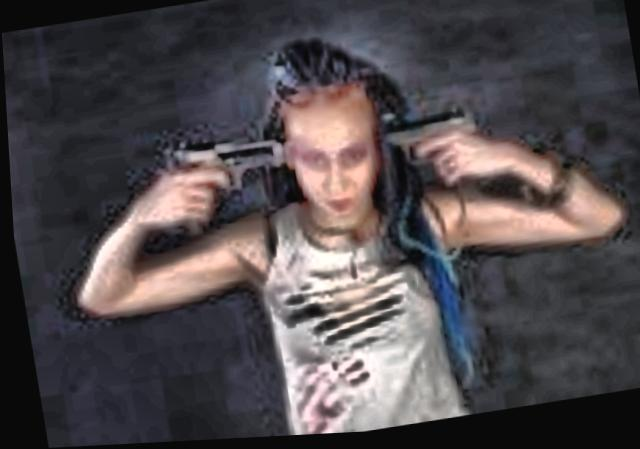pistol: (135, 126, 298, 246), (363, 106, 481, 202)
